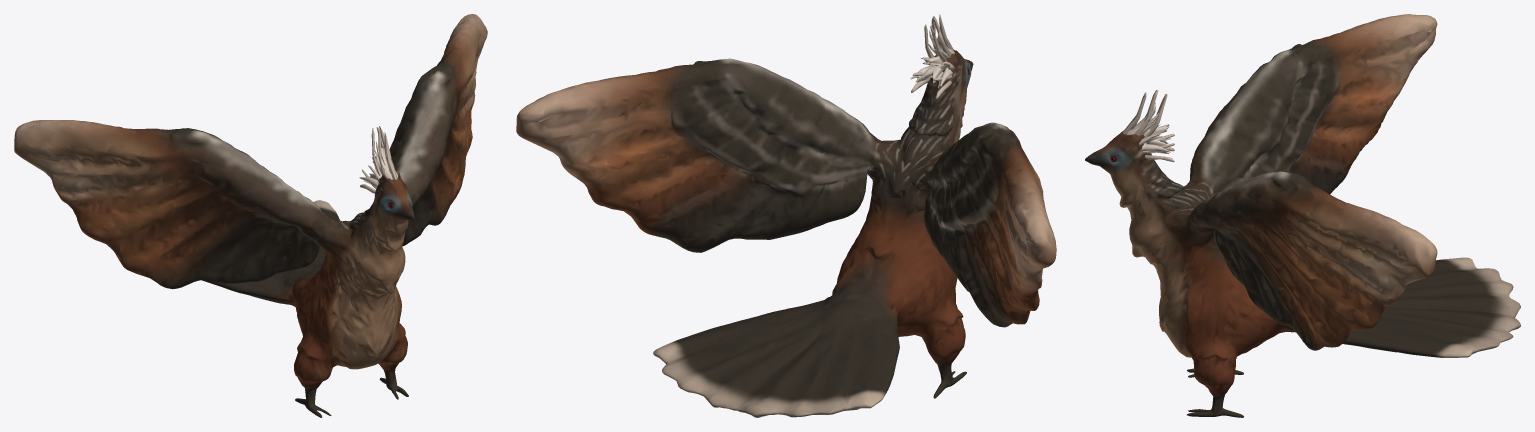
Rendered from hoatzin.glb.
3 renders of one model, left to right at view 1: azimuth 30°, elevation 25°; view 2: azimuth 150°, elevation 25°; view 3: azimuth 270°, elevation 25°, orthographic. The views are drawn at different scales.
Visible parts, largest first — view 1: Object_7, Object_3, Object_5; view 2: Object_7, Object_5, Object_3; view 3: Object_7, Object_3, Object_5.
Boxes of the visible parts, x1,y1,x2,y2 form: Object_7: [14, 14, 487, 417]; Object_3: [360, 126, 397, 193]; Object_5: [359, 141, 397, 187]; Object_7: [516, 49, 1056, 417]; Object_5: [910, 30, 954, 88]; Object_3: [911, 14, 953, 98]; Object_7: [1085, 14, 1520, 417]; Object_3: [1122, 90, 1174, 162]; Object_5: [1126, 102, 1171, 153].
Size of the model in its own units: 1.18 by 0.7058 by 0.9082.
4 materials, 4 textured.
